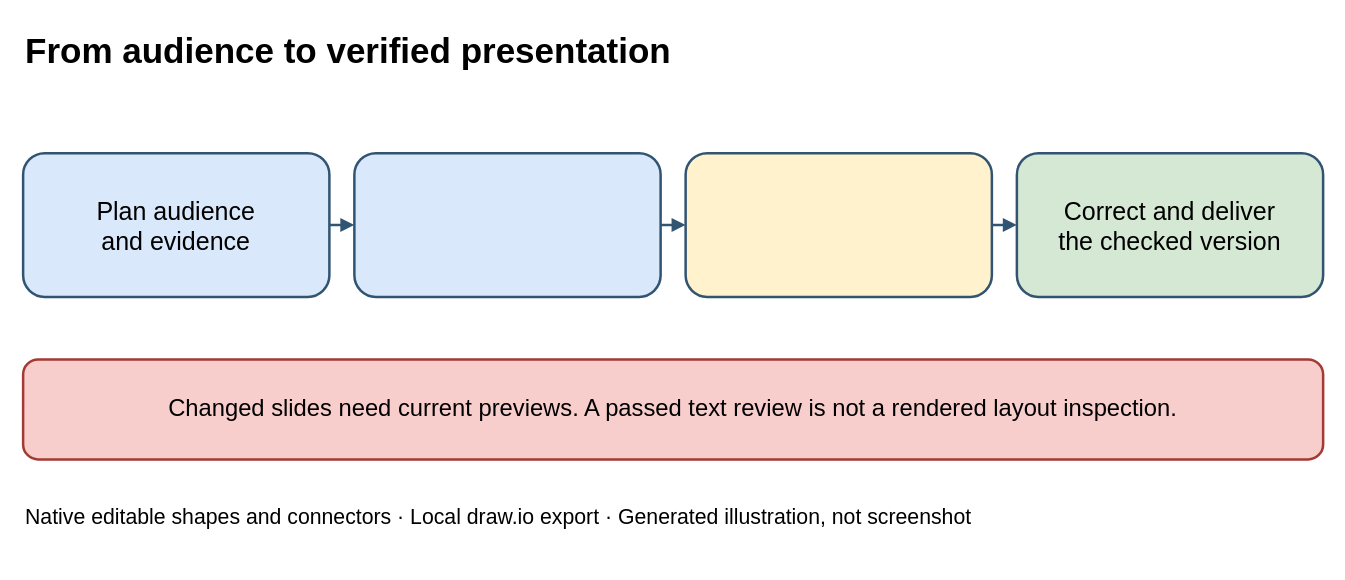
The diagram is 1345 pixels wide and 580 high, and some of its shapes have lost their labels. The shapes that lost their labels are listed below. From the top down, each one's box as (x1, y1, x2, y2) in pixels, then its label:
(352, 151, 661, 298): Produce editable slides and notes
(684, 151, 992, 298): Render exact file and inspect
